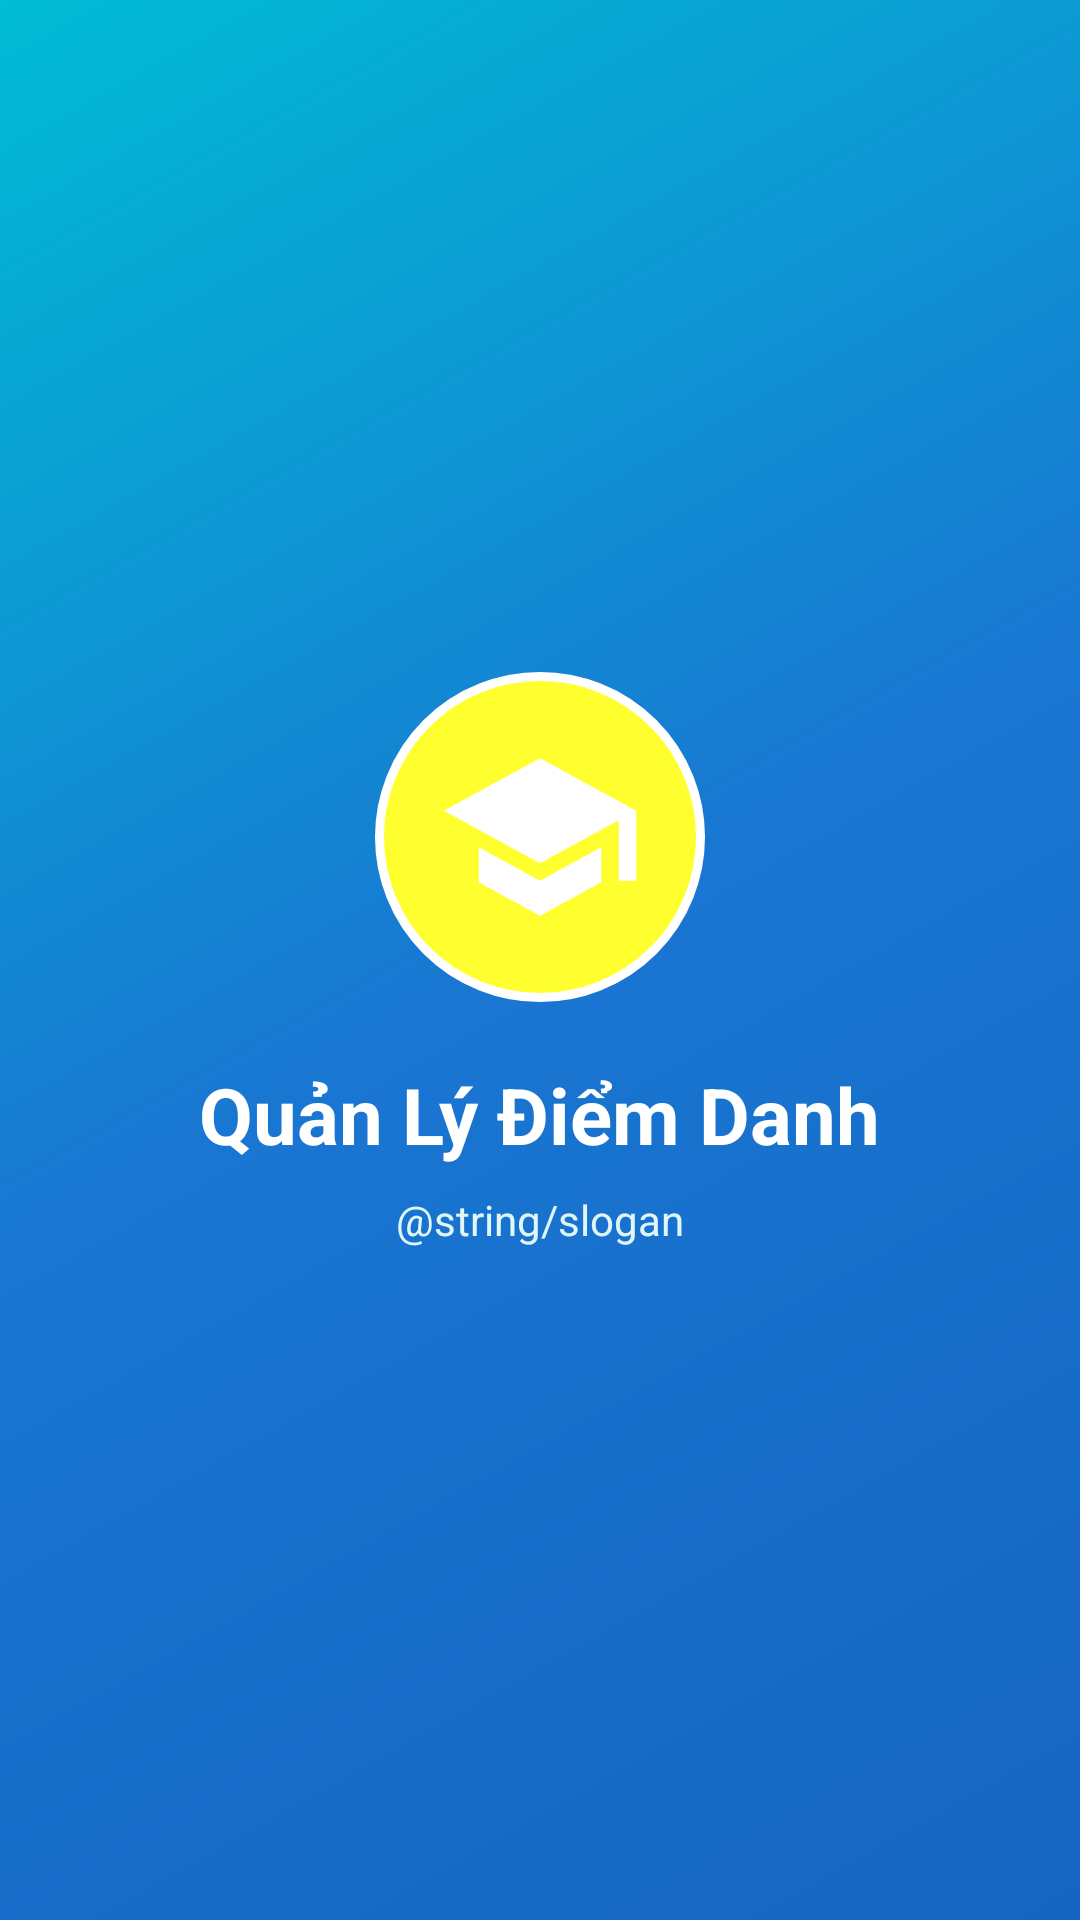

Icon click points for this 1080px×1920px phone screenshot, format (x,y):
school: (540,837)
